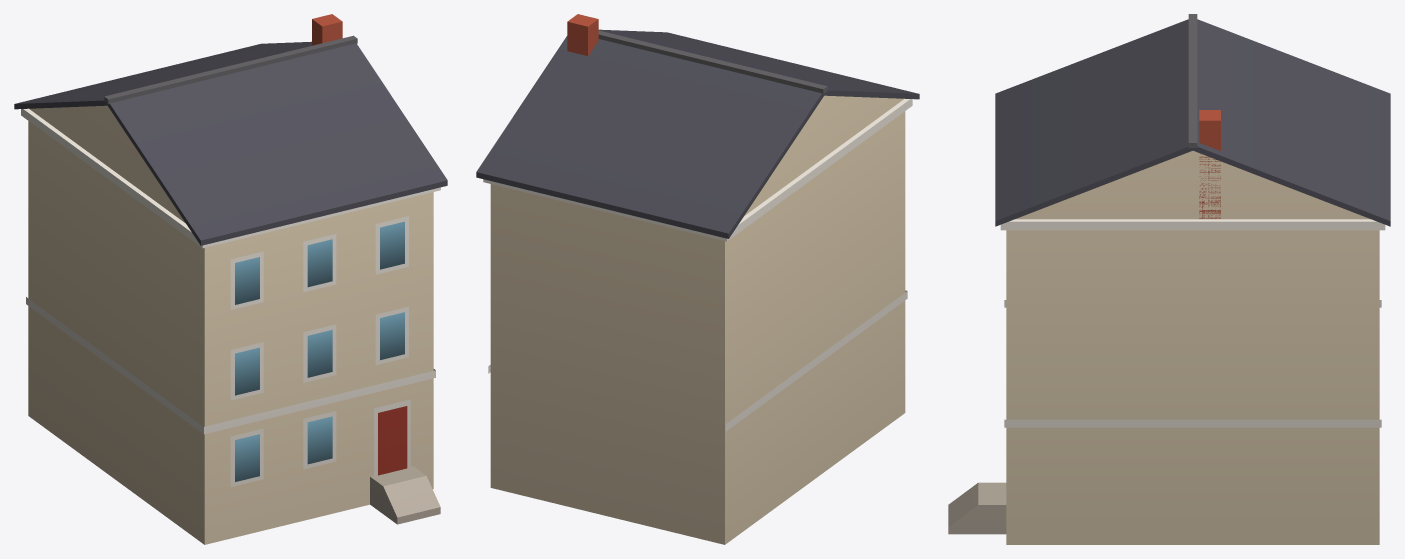
File: lane_e11_far.glb
3 renders of one model, left to right at view 1: azimuth 30°, elevation 25°; view 2: azimuth 150°, elevation 25°; view 3: azimuth 270°, elevation 25°, orthographic. The views are drawn at different scales.
Visible parts, largest first — view 1: lane_e11_far; view 2: lane_e11_far; view 3: lane_e11_far.
Boxes of the visible parts, bbox=[...] form: lane_e11_far: bbox=[14, 14, 447, 544]; lane_e11_far: bbox=[476, 14, 919, 544]; lane_e11_far: bbox=[948, 14, 1390, 544].
Size of the model in its own units: 9.8 by 15.05 by 14.21.
Materials: 1 (1 with a texture image).
